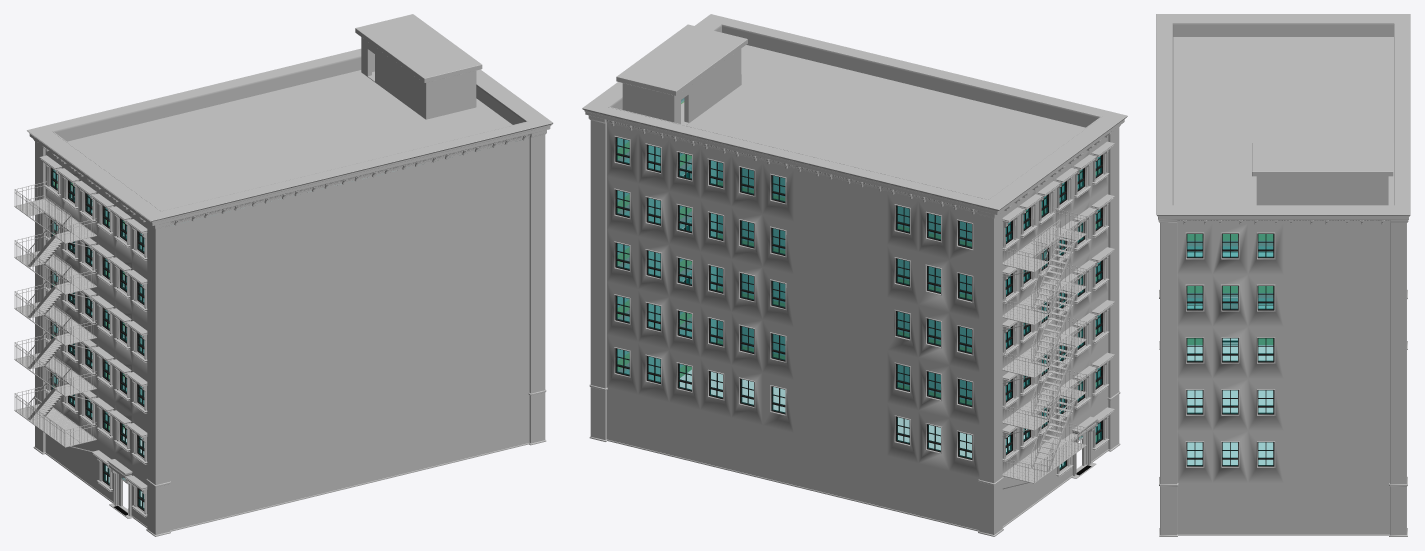
Rendered from SM_Building08_V2.fbx.
3 renders of one model, left to right at view 1: azimuth 30°, elevation 25°; view 2: azimuth 150°, elevation 25°; view 3: azimuth 270°, elevation 25°, orthographic. The views are drawn at different scales.
Visible parts, largest first — view 1: SM_Building08_V2; view 2: SM_Building08_V2; view 3: SM_Building08_V2.
Part boxes in pixels (<box>): SM_Building08_V2: <box>14,14,553,536</box>; SM_Building08_V2: <box>582,14,1127,536</box>; SM_Building08_V2: <box>1156,14,1410,536</box>.
Bounding box in the file's own units: 3541 × 2768 × 1791.
